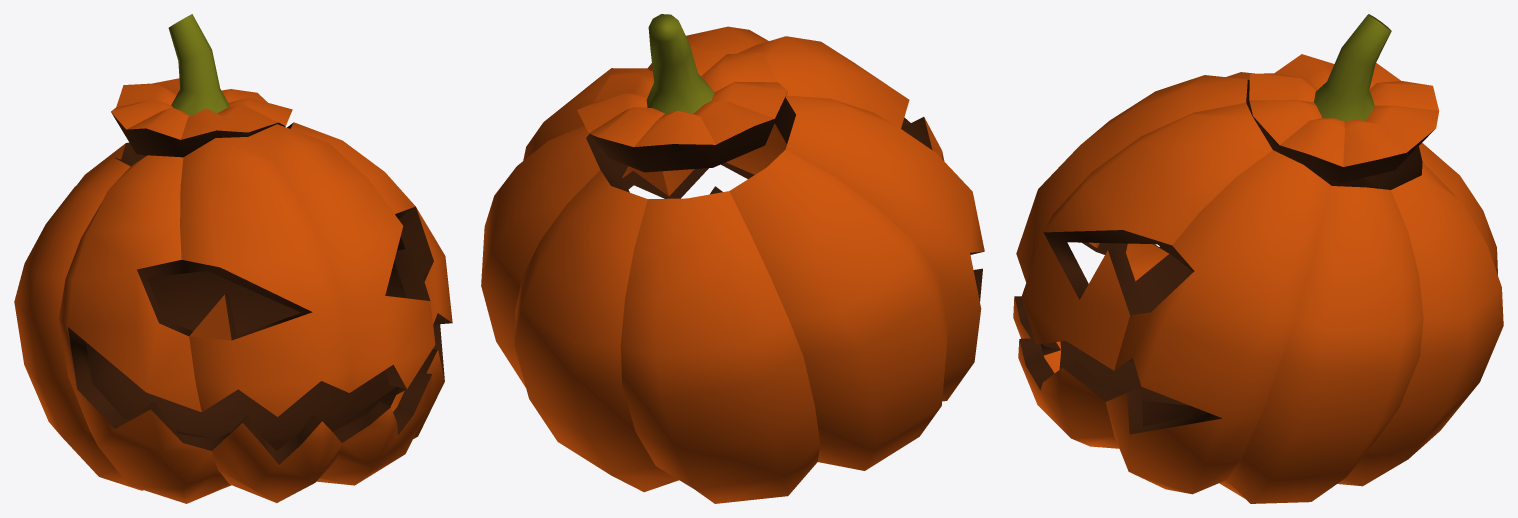
Rendered from Pumpkin_body.fbx.
3 renders of one model, left to right at view 1: azimuth 30°, elevation 25°; view 2: azimuth 150°, elevation 25°; view 3: azimuth 270°, elevation 25°, orthographic. The views are drawn at different scales.
Visible parts, largest first — view 1: Pumpkin_body; view 2: Pumpkin_body; view 3: Pumpkin_body.
Boxes of the visible parts, <box> form: Pumpkin_body: <box>14,14,452,503</box>; Pumpkin_body: <box>481,14,984,503</box>; Pumpkin_body: <box>1013,14,1503,503</box>.
Size of the model in its own units: 406 by 430 by 422.
